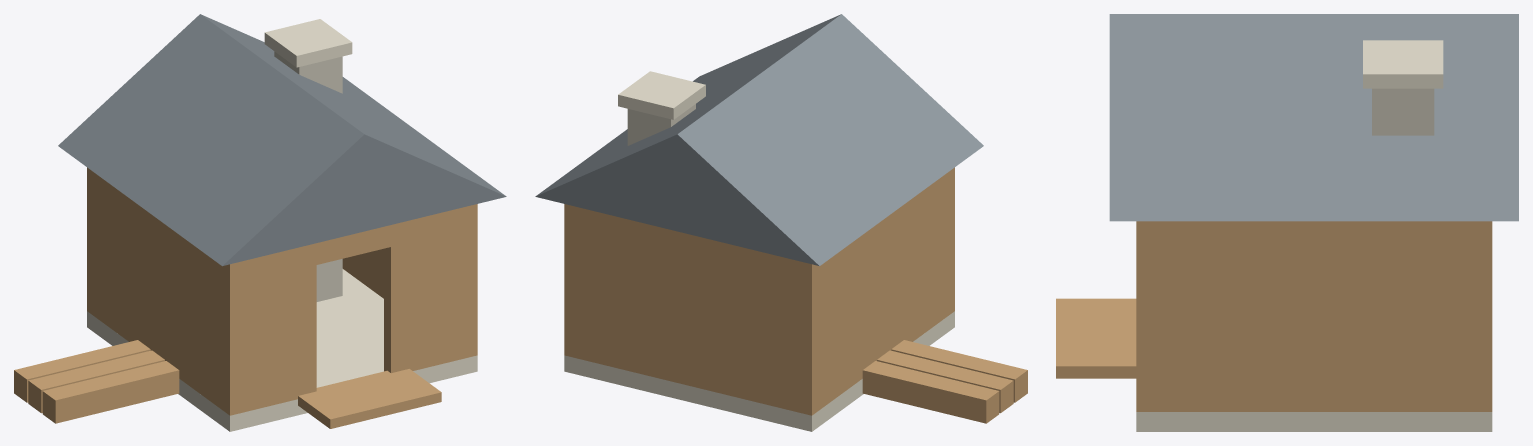
File: housing-cottage.glb
3 views of the same model, side by side, from view 1: azimuth 30°, elevation 25°; view 2: azimuth 150°, elevation 25°; view 3: azimuth 270°, elevation 25° (orthographic). The views are drawn at different scales.
Visible parts, largest first — view 1: housing-cottage; view 2: housing-cottage; view 3: housing-cottage.
Boxes of the visible parts, left/top/right/bottom form: housing-cottage: left=14, top=14, right=506, bottom=431; housing-cottage: left=535, top=14, right=1027, bottom=431; housing-cottage: left=1056, top=14, right=1518, bottom=431.
Size of the model in its own units: 6.3 by 4.25 by 5.2.
